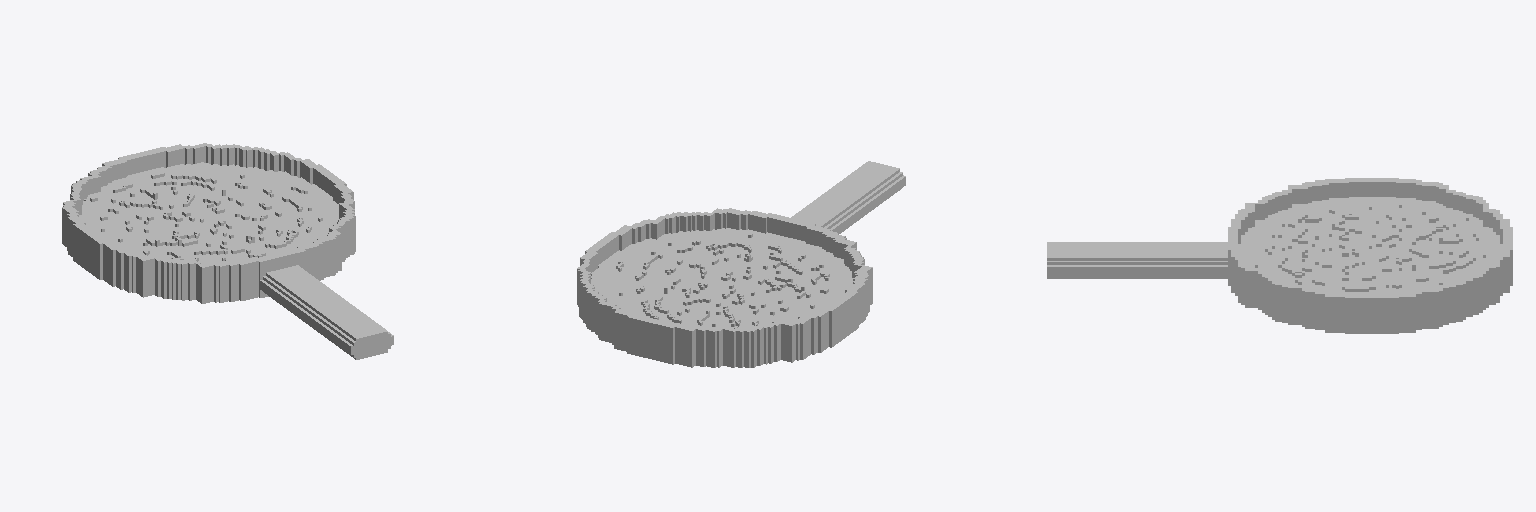
File: SartenArroz.obj
3 views of the same model, side by side, from view 1: azimuth 30°, elevation 25°; view 2: azimuth 150°, elevation 25°; view 3: azimuth 270°, elevation 25° (orthographic).
Parts seen in each view (by area): view 1: object 1; view 2: object 1; view 3: object 1.
Part boxes in pixels (bbox=[...]): object 1: bbox=[62, 143, 393, 359]; object 1: bbox=[577, 161, 905, 367]; object 1: bbox=[1047, 178, 1512, 333].
Size of the model in its own units: 8.5 by 1.2 by 13.9.